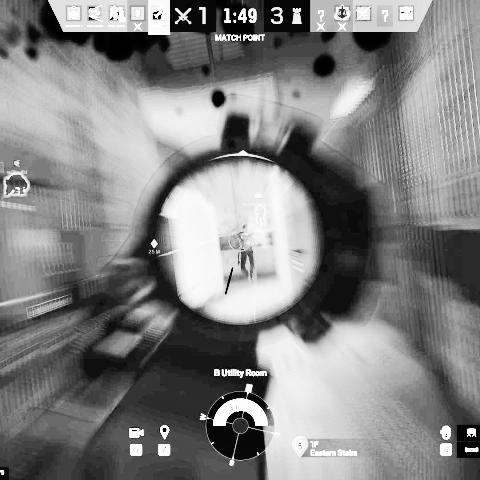Character: (236, 221, 256, 287)
Friend_label: (243, 191, 275, 206), (6, 159, 28, 174)
Head: (242, 222, 249, 232)
